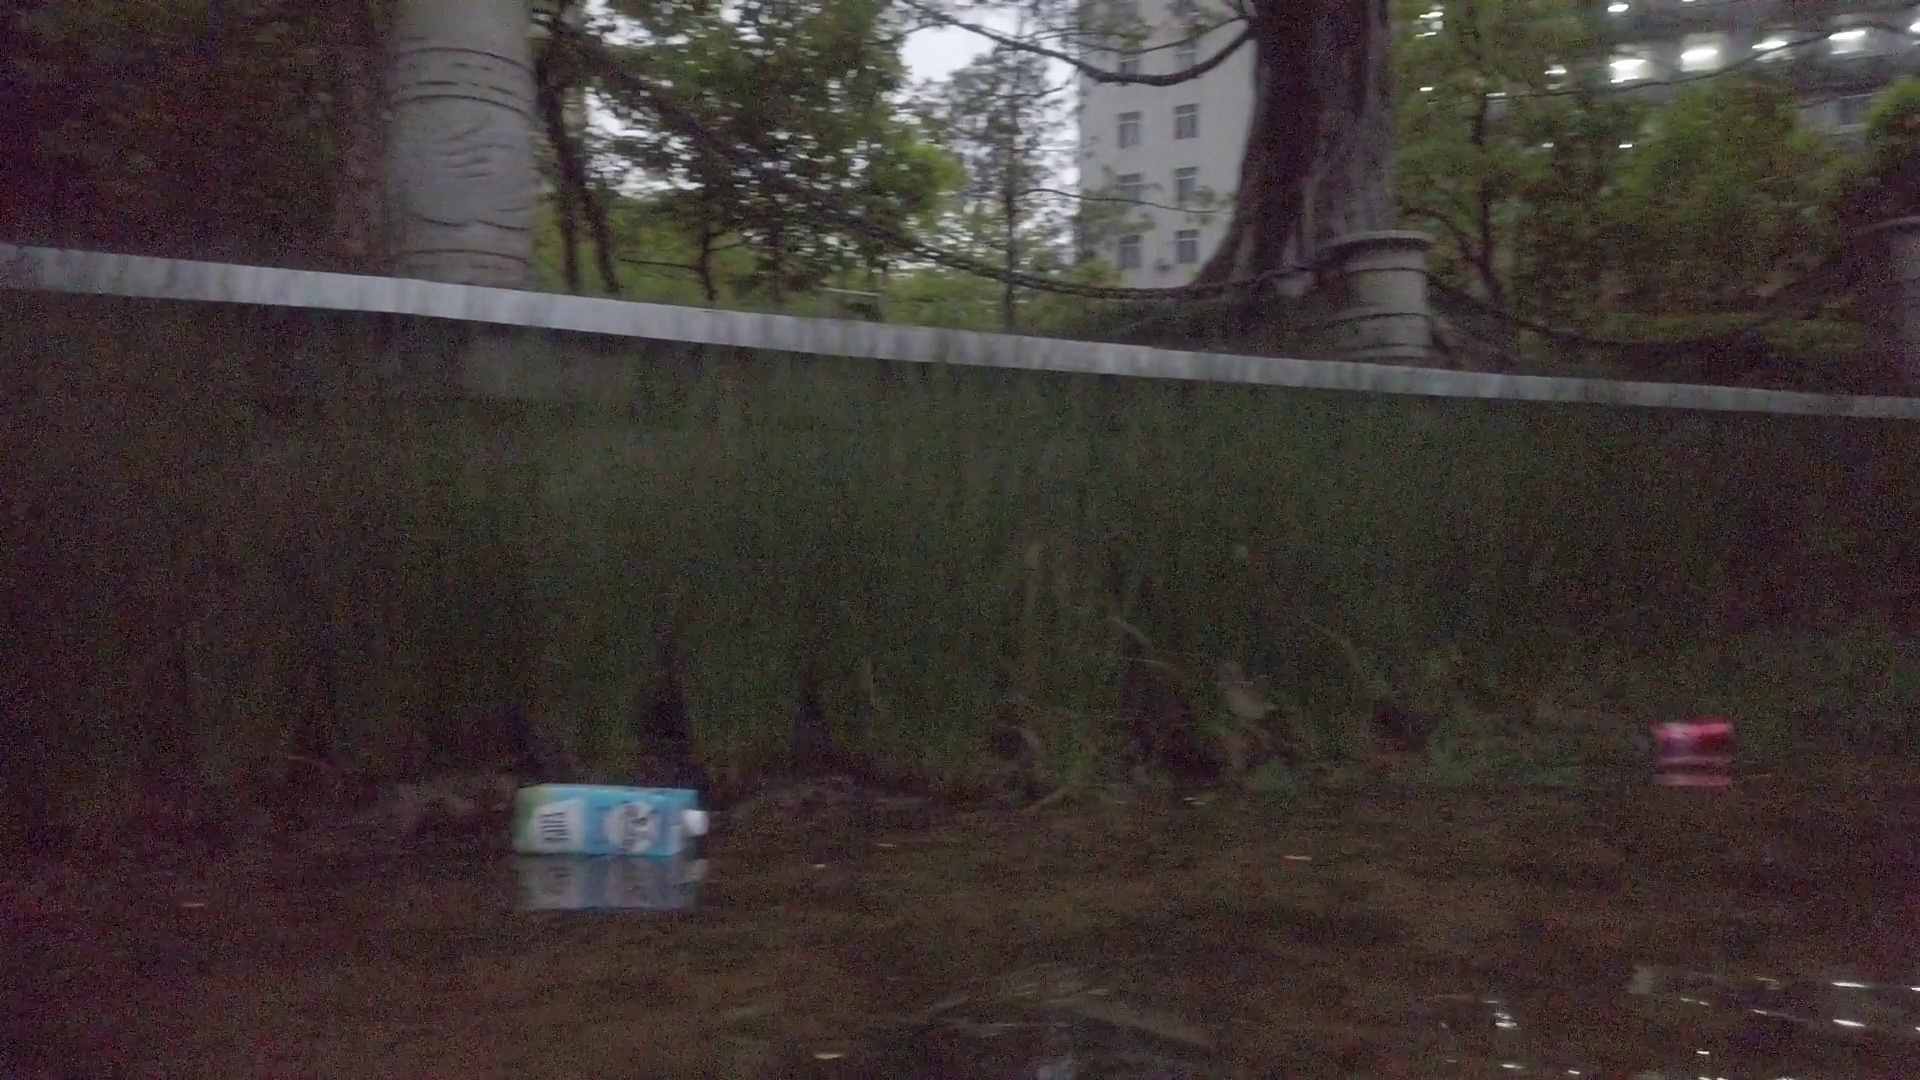bottle: (1648, 720, 1739, 754)
carton: (512, 779, 715, 858)
